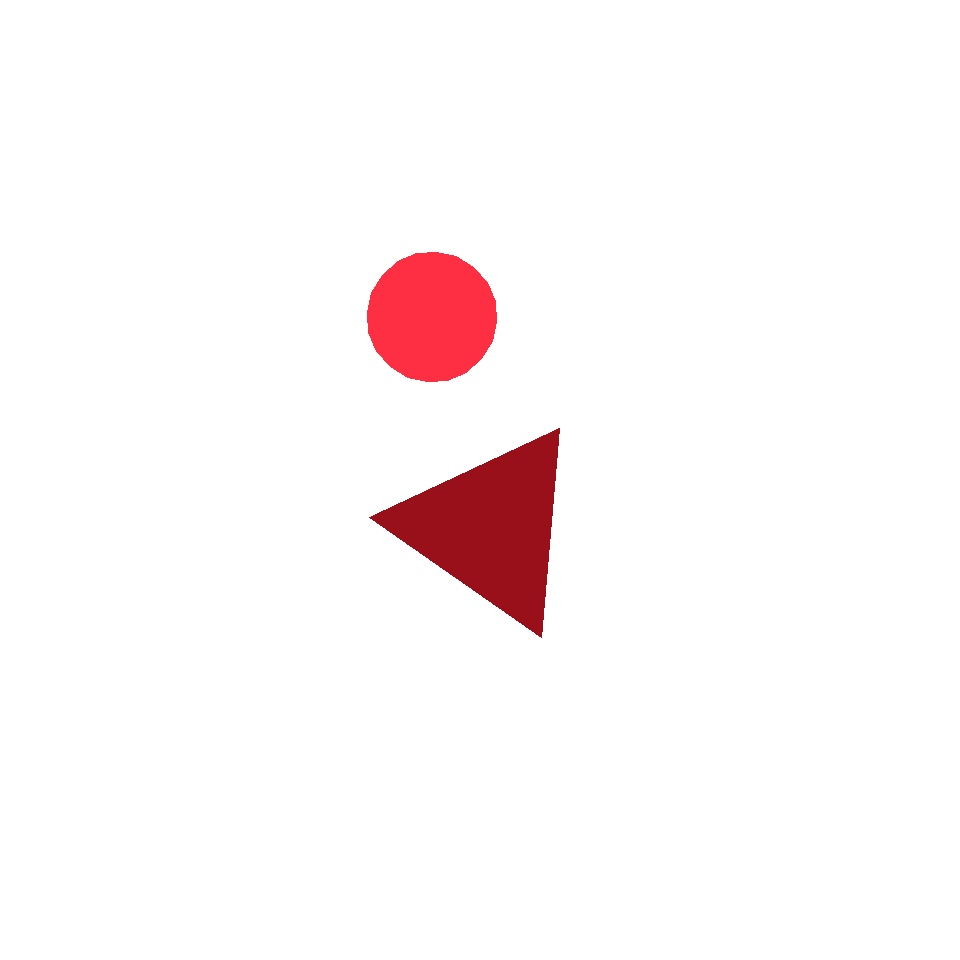circle: (484, 482, 790, 768), (395, 424, 585, 633)
square: (146, 52, 384, 290), (556, 504, 678, 625)
triangle: (392, 196, 714, 520), (368, 252, 496, 382)
